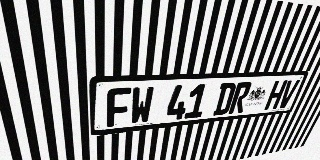1: (184, 84, 209, 119)
4: (166, 85, 190, 121)
D: (213, 82, 237, 116)
F: (107, 87, 131, 127)
H: (264, 80, 288, 110)
R: (228, 82, 253, 114)
V: (276, 80, 300, 109)
W: (130, 86, 154, 125)
